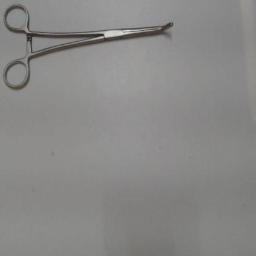Lahey Forceps: (2, 1, 180, 93)
